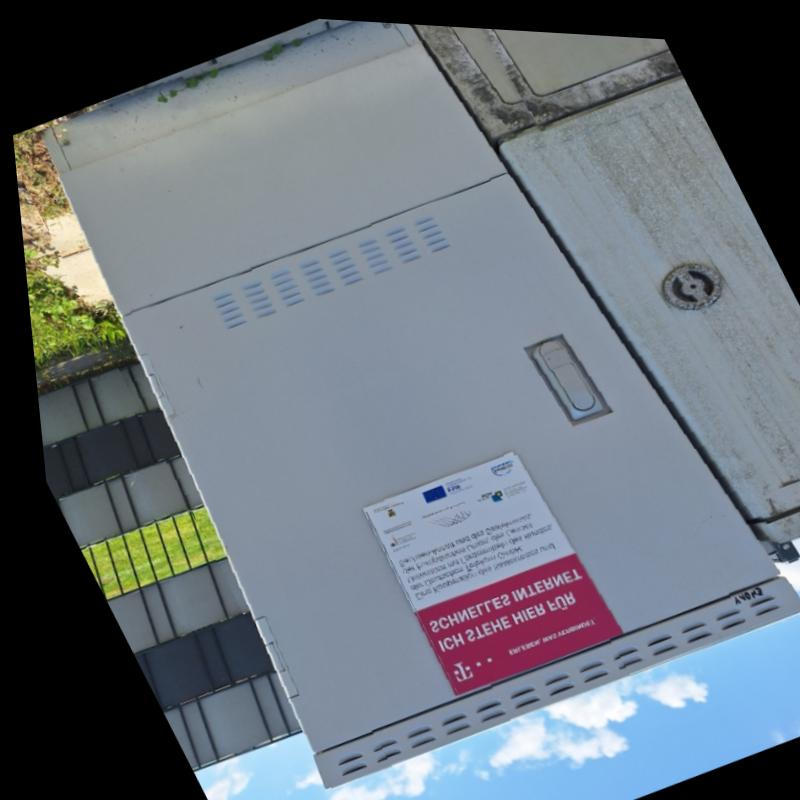NT-Gehause: (49, 17, 800, 788)
Steaker: (350, 435, 618, 699)
